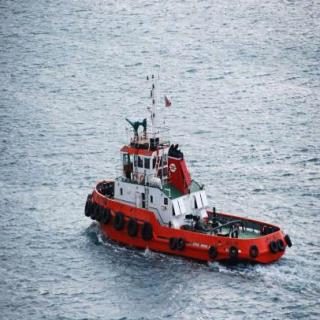Tug Boat: (86, 100, 285, 264)
